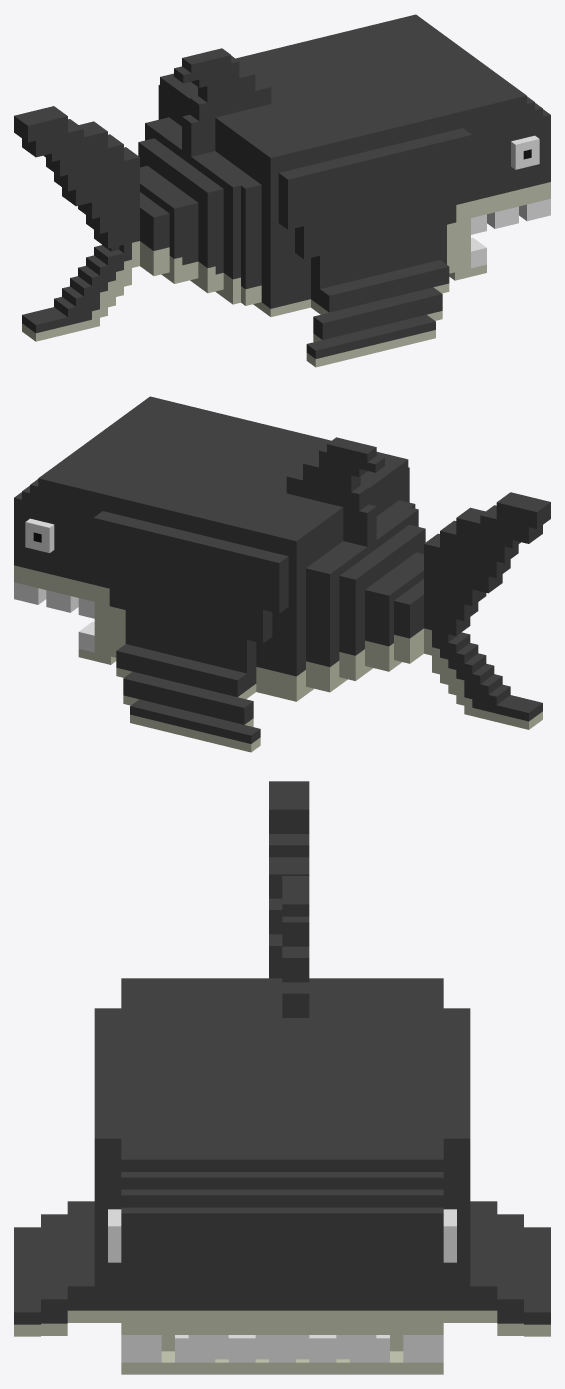
Rendered from shark-00.obj.
3 renders of one model, top to bottom at view 1: azimuth 30°, elevation 25°; view 2: azimuth 150°, elevation 25°; view 3: azimuth 270°, elevation 25°, orthographic. The views are drawn at different scales.
Bounding box in the file's own units: 59 × 29 × 40.
Materials: 1 (1 with a texture image).
